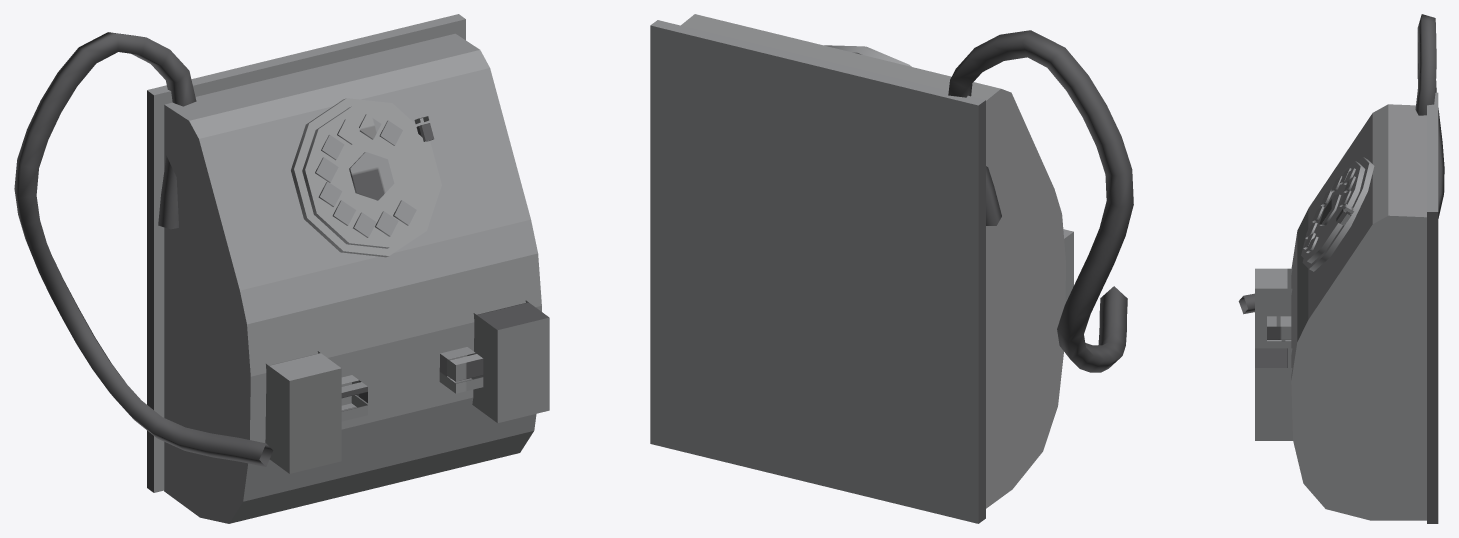
The picture shows the model from 3 angles, left to right: view 1: azimuth 30°, elevation 25°; view 2: azimuth 150°, elevation 25°; view 3: azimuth 270°, elevation 25°; orthographic projection. The views are drawn at different scales.
Bounding box in the file's own units: 0.4793 × 0.455 × 0.2963.
